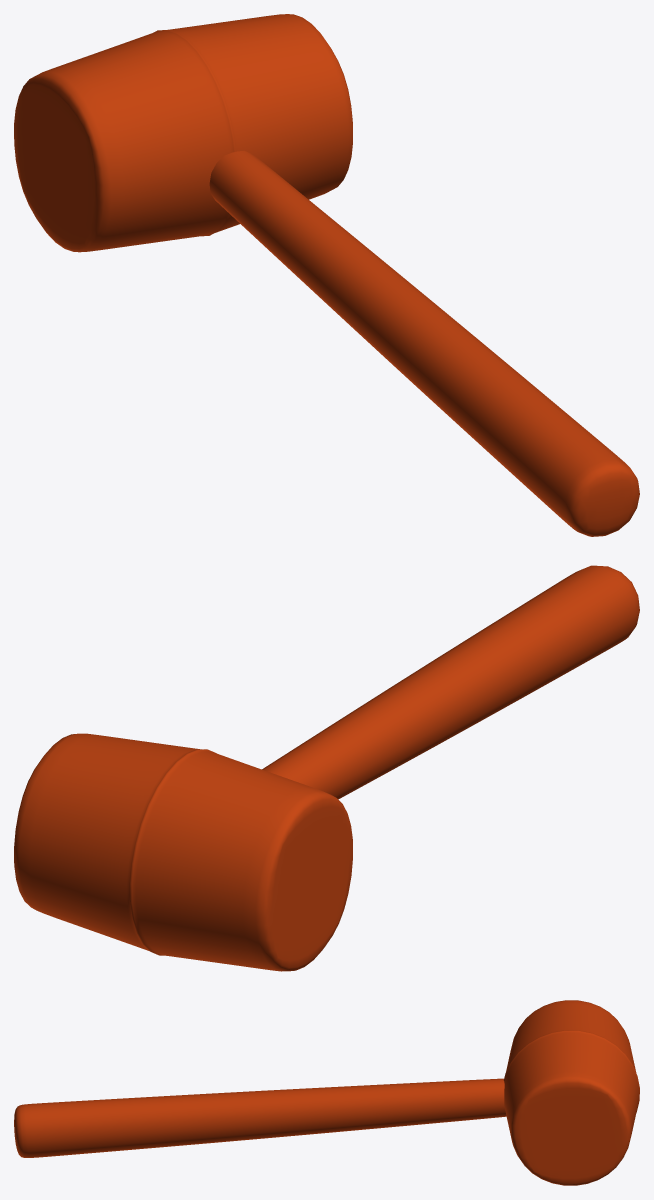
Rendered from mallet.dae.
The picture shows the model from 3 angles, top to bottom: view 1: azimuth 30°, elevation 25°; view 2: azimuth 150°, elevation 25°; view 3: azimuth 270°, elevation 25°; orthographic projection. The views are drawn at different scales.
Visible parts, largest first — view 1: Cube.001; view 2: Cube.001; view 3: Cube.001.
Boxes of the visible parts, <box> form: Cube.001: <box>14,14,639,536</box>; Cube.001: <box>14,565,639,971</box>; Cube.001: <box>14,1000,639,1185</box>.
Size of the model in its own units: 0.1015 by 0.3318 by 0.0731.
